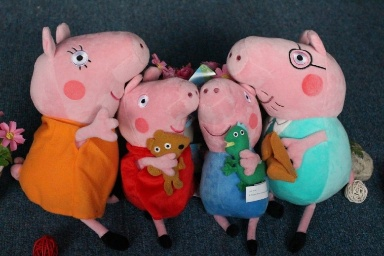Peppa: (117, 73, 199, 246)
